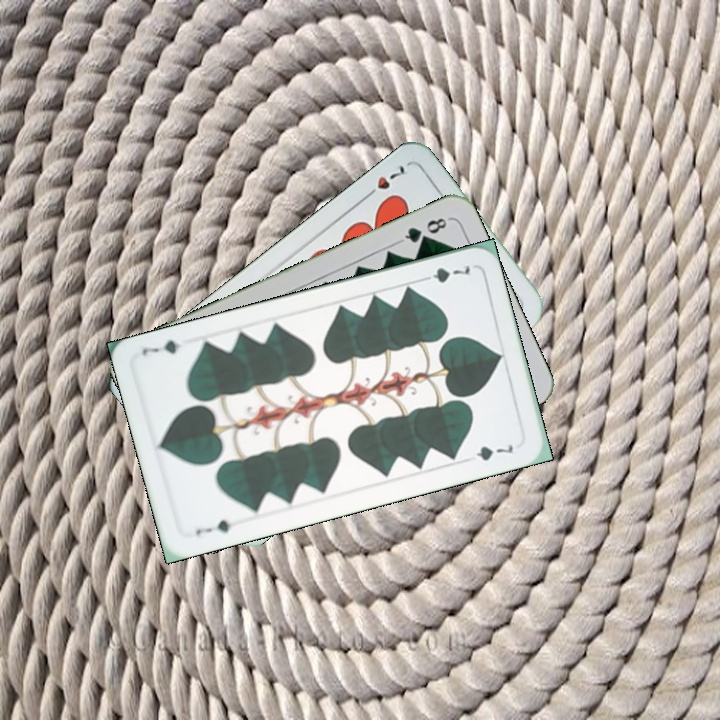G7: (416, 260, 473, 286), (192, 516, 243, 539)
G8: (396, 213, 452, 246)
H7: (360, 161, 408, 202)
